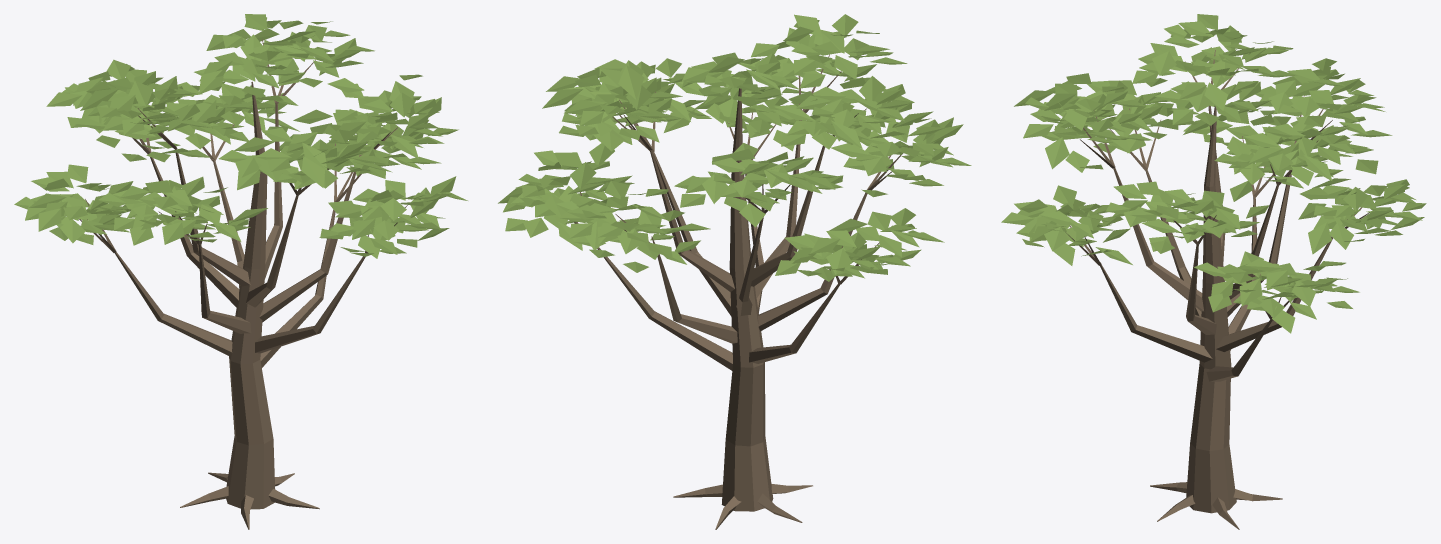
File: oak.glb
3 views of the same model, side by side, from view 1: azimuth 30°, elevation 25°; view 2: azimuth 150°, elevation 25°; view 3: azimuth 270°, elevation 25° (orthographic). The views are drawn at different scales.
Visible parts, largest first — view 1: tree_oak_LOD0; view 2: tree_oak_LOD0; view 3: tree_oak_LOD0.
Boxes of the visible parts, x1,y1,x2,y2 form: tree_oak_LOD0: (14, 14, 467, 529); tree_oak_LOD0: (498, 14, 971, 529); tree_oak_LOD0: (1001, 14, 1426, 529).
Bounding box in the file's own units: 11.33 × 11.51 × 10.51.
